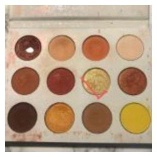ImgView: (1, 1, 156, 156)
